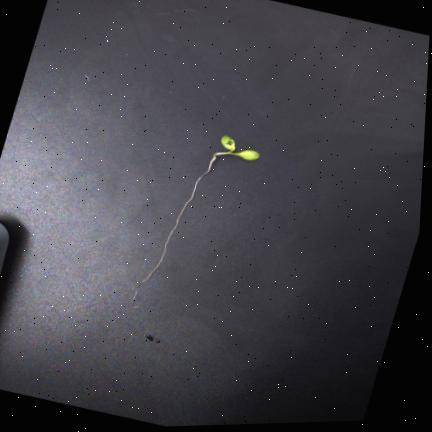leaf1: (236, 149, 260, 159)
leaf2: (221, 135, 235, 150)
root: (134, 158, 214, 298)
stem: (212, 150, 234, 158)
